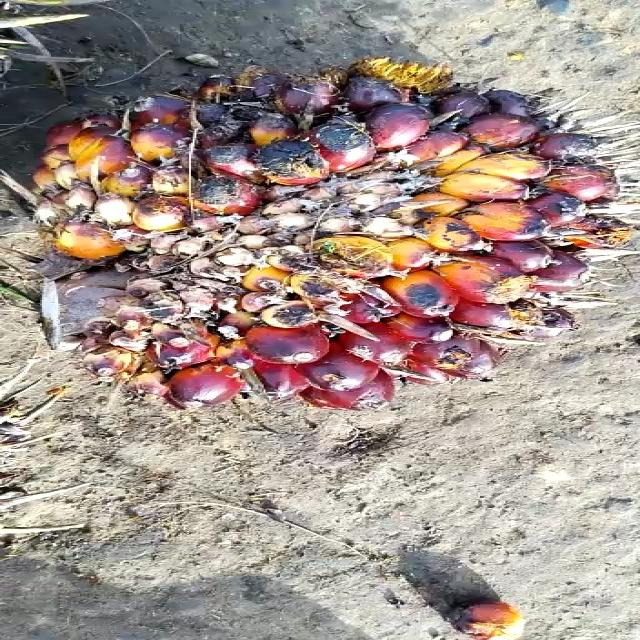palm oil: (30, 51, 640, 435)
